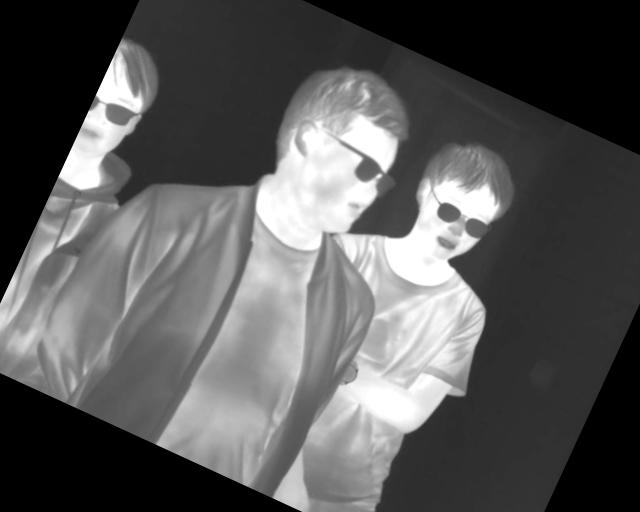face: (244, 42, 428, 247), (393, 125, 527, 277), (72, 35, 173, 170)
